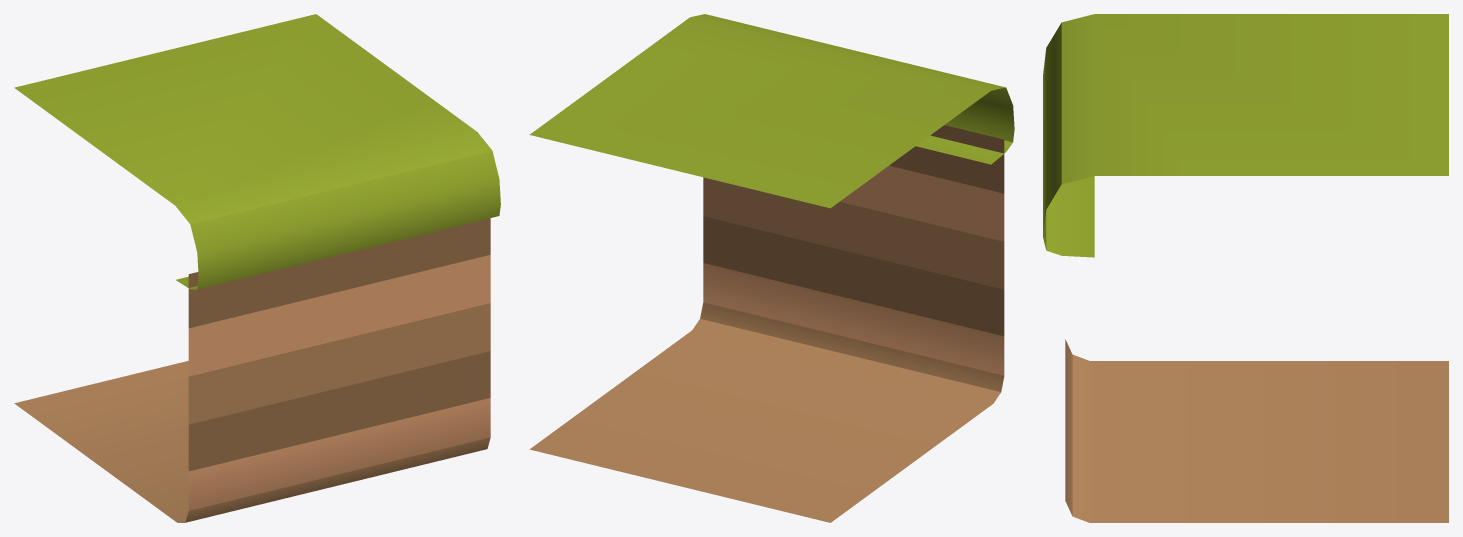
Rendered from quaternius-platformer-game-cube-grass-side.glb.
The picture shows the model from 3 angles, left to right: view 1: azimuth 30°, elevation 25°; view 2: azimuth 150°, elevation 25°; view 3: azimuth 270°, elevation 25°; orthographic projection. The views are drawn at different scales.
Visible parts, largest first — view 1: Cube_Grass_Side; view 2: Cube_Grass_Side; view 3: Cube_Grass_Side.
Part boxes in pixels (x1,y1,x2,y2): Cube_Grass_Side: [14, 14, 500, 522]; Cube_Grass_Side: [529, 14, 1014, 522]; Cube_Grass_Side: [1043, 14, 1448, 522].
Bounding box in the file's own units: 2 × 2 × 2.12.
